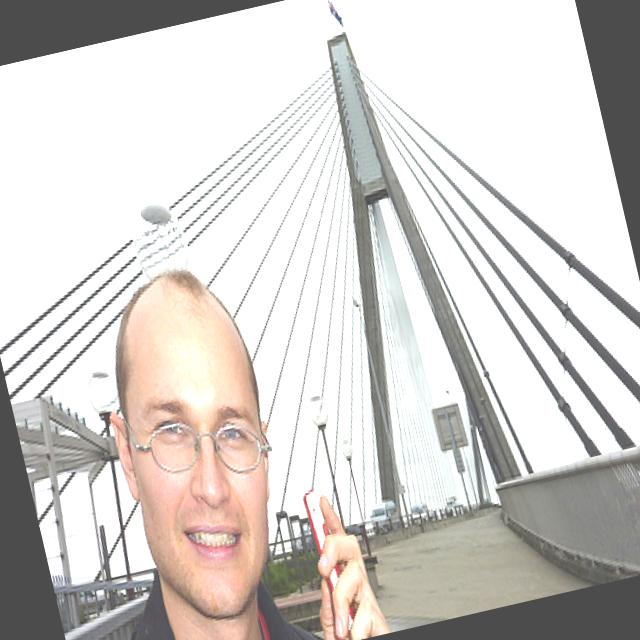Vehicle: (368, 499, 401, 533), (442, 492, 468, 519), (410, 501, 436, 525), (410, 504, 430, 526)
